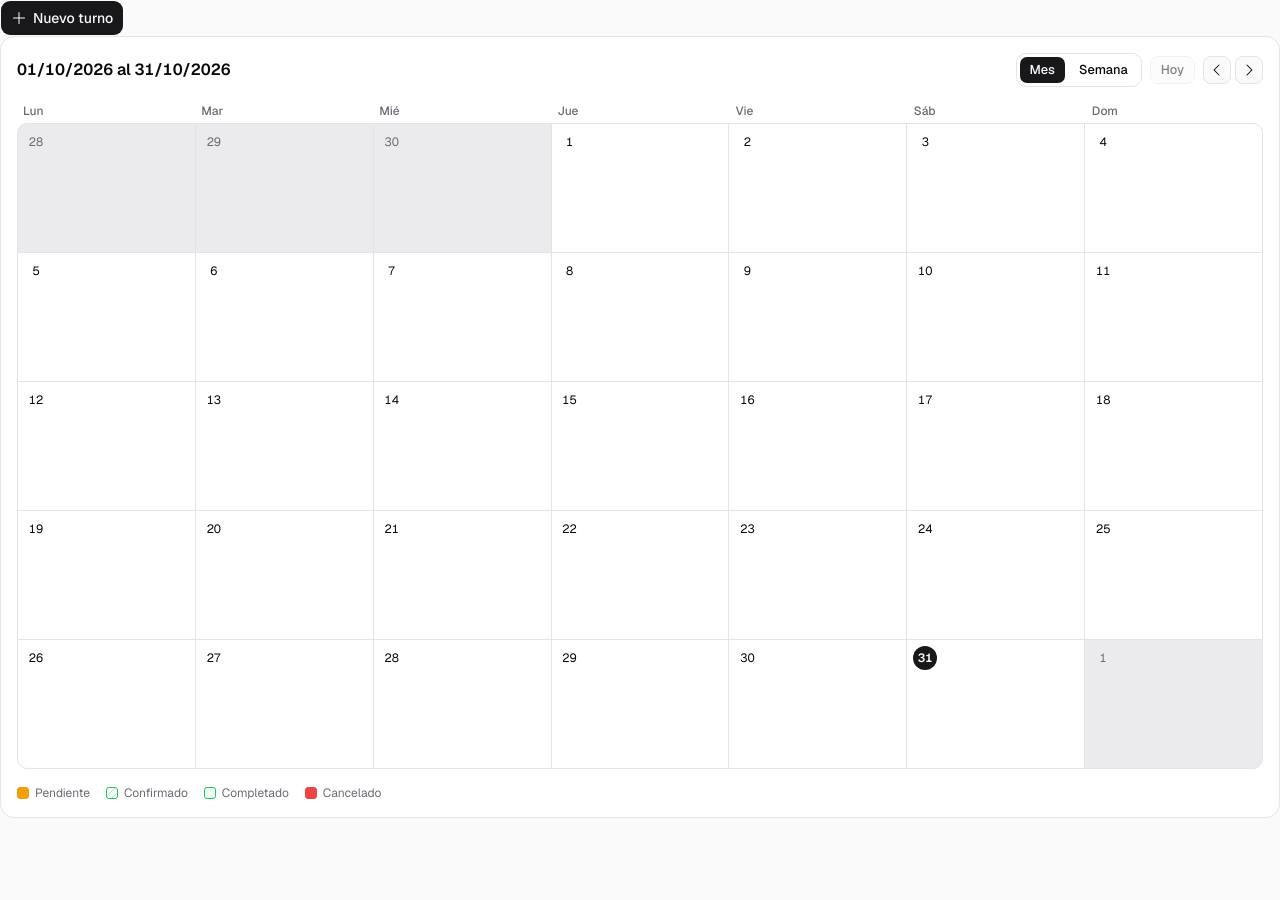
Test: AppointmentsCalendar › opens 'Nuevo turno' on today from the page's button
Step 1. Click the button "Nuevo turno" → {"x": 62, "y": 18}, box [0, 0, 124, 36]
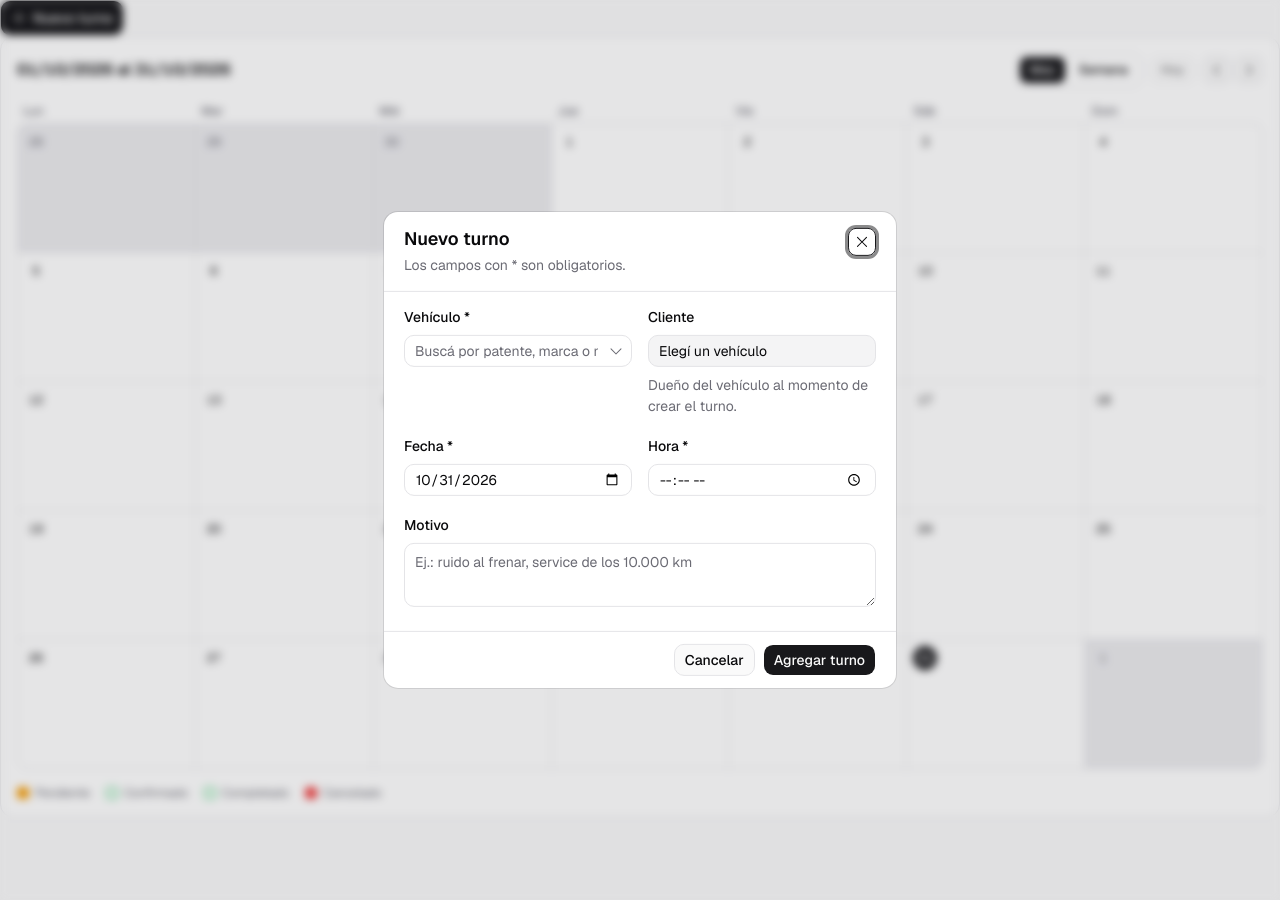
Expected: the heading "Nuevo turno" is shown, [404, 228, 510, 250]
